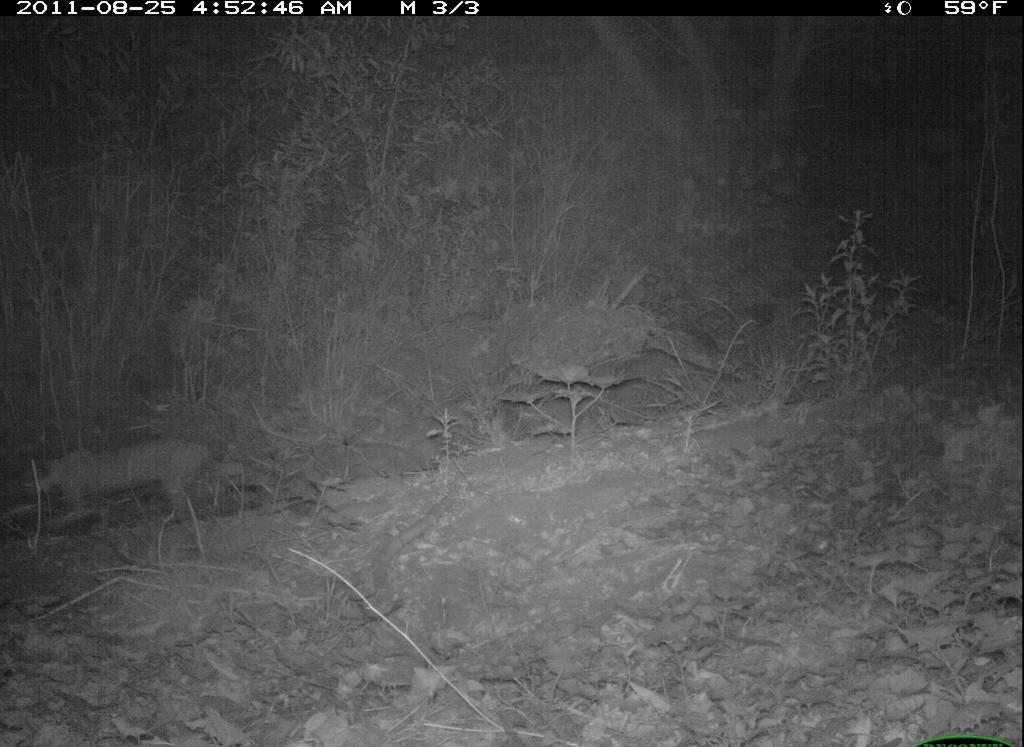bobcat: (6, 415, 236, 547)
